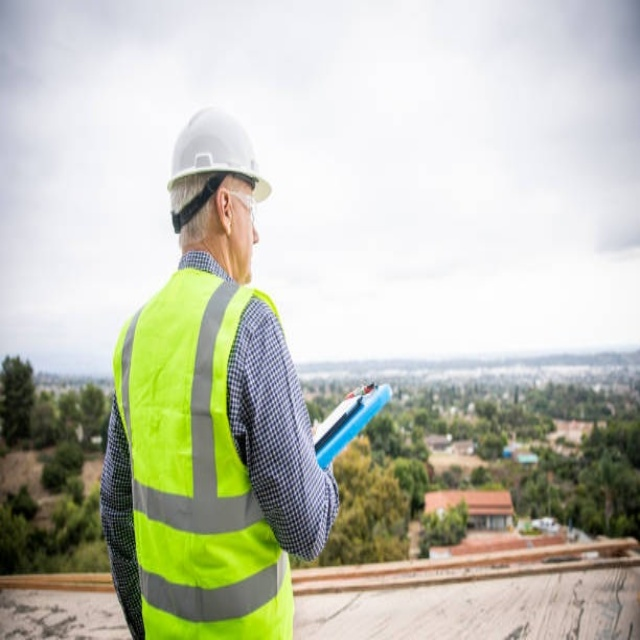Gafas: (222, 182, 257, 220)
